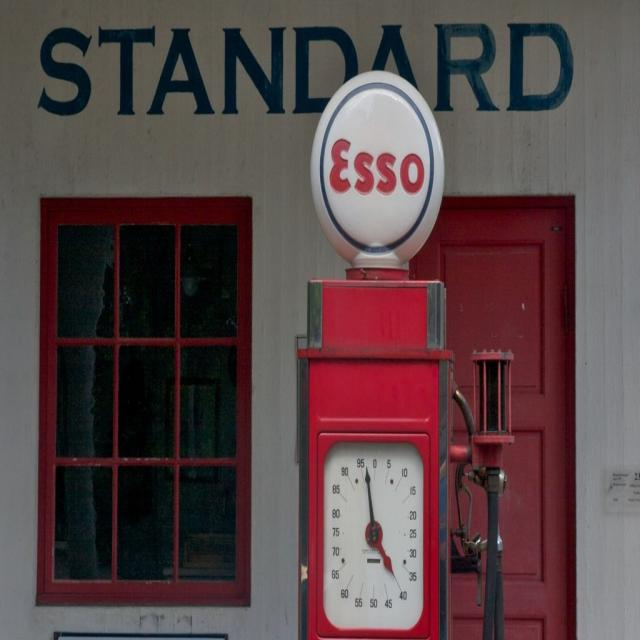esso: (315, 75, 440, 260)
